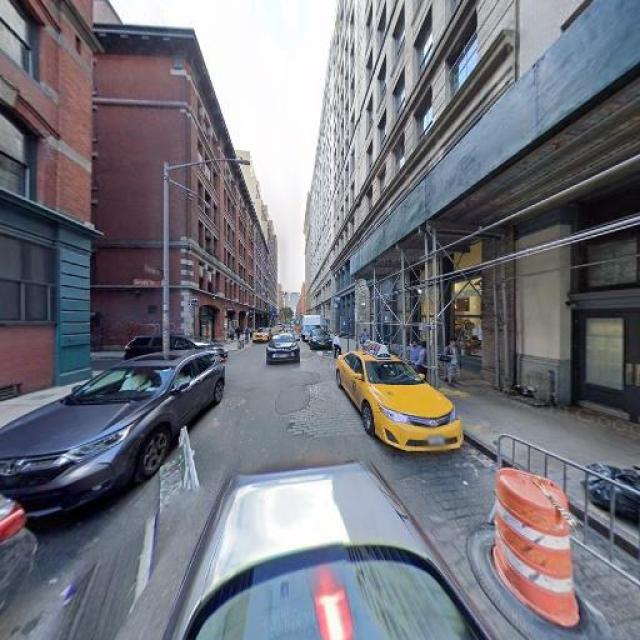Building: (308, 1, 517, 389), (522, 1, 640, 427), (1, 1, 75, 404)
